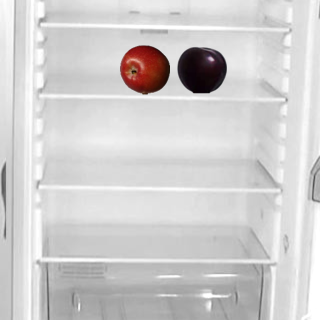Apple Braeburn: (119, 44, 169, 94)
Cherry Wax Black: (176, 44, 226, 94)
